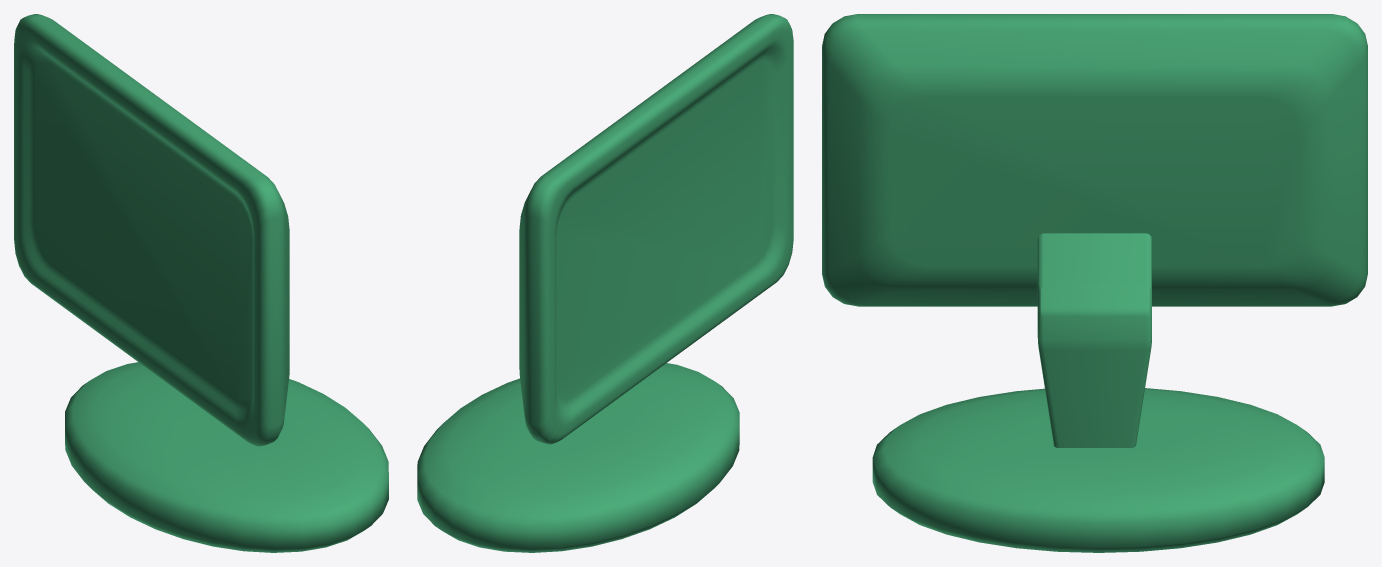
The model's file is Register.fbx.
3 renders of one model, left to right at view 1: azimuth 30°, elevation 25°; view 2: azimuth 150°, elevation 25°; view 3: azimuth 270°, elevation 25°, orthographic. The views are drawn at different scales.
Visible parts, largest first — view 1: SM_Register; view 2: SM_Register; view 3: SM_Register.
Part boxes in pixels (box(x1,y1,x2,y2)): SM_Register: box(14, 14, 388, 552); SM_Register: box(417, 14, 793, 552); SM_Register: box(822, 14, 1367, 552).
Bounding box in the file's own units: 17.97 × 28.29 × 31.47.
